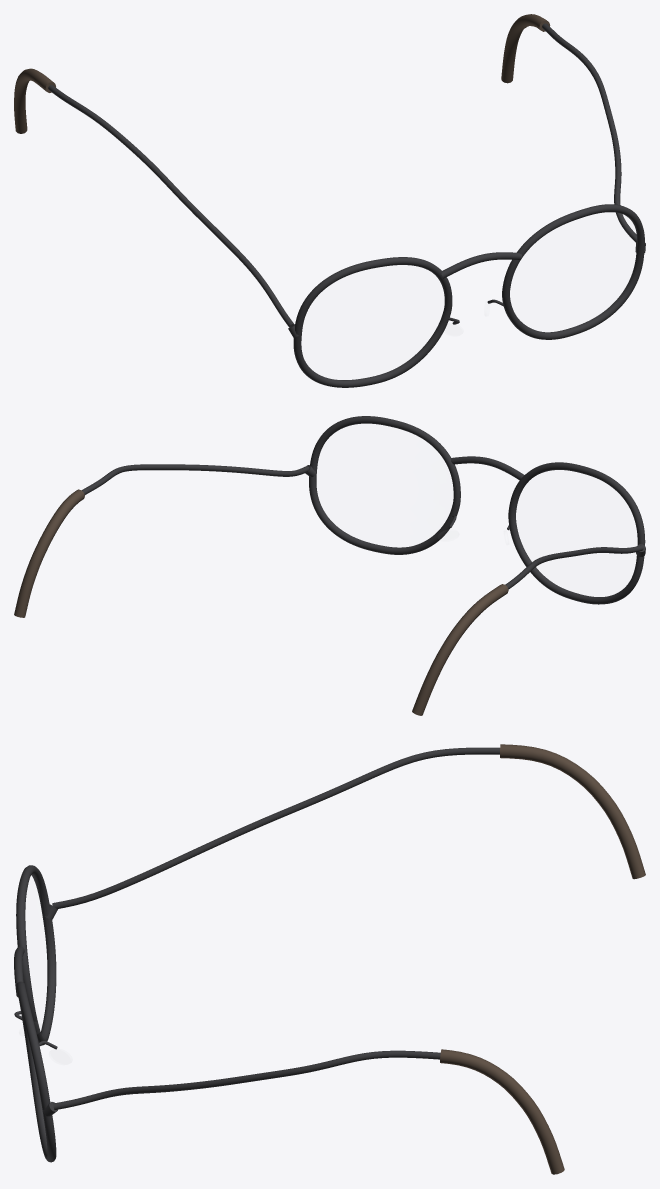
File: glasses-metal.glb
3 renders of one model, top to bottom at view 1: azimuth 30°, elevation 25°; view 2: azimuth 150°, elevation 25°; view 3: azimuth 270°, elevation 25°, orthographic. The views are drawn at different scales.
Visible parts, largest first — view 1: frame, temple-tips; view 2: frame, temple-tips; view 3: frame, temple-tips.
Boxes of the visible parts, x1,y1,x2,y2 form: frame: [48, 23, 645, 387]; temple-tips: [14, 14, 550, 133]; frame: [82, 416, 645, 604]; temple-tips: [14, 489, 508, 715]; frame: [14, 747, 499, 1162]; temple-tips: [440, 744, 645, 1174].
Size of the model in its own units: 0.9618 by 0.3538 by 0.9224.
